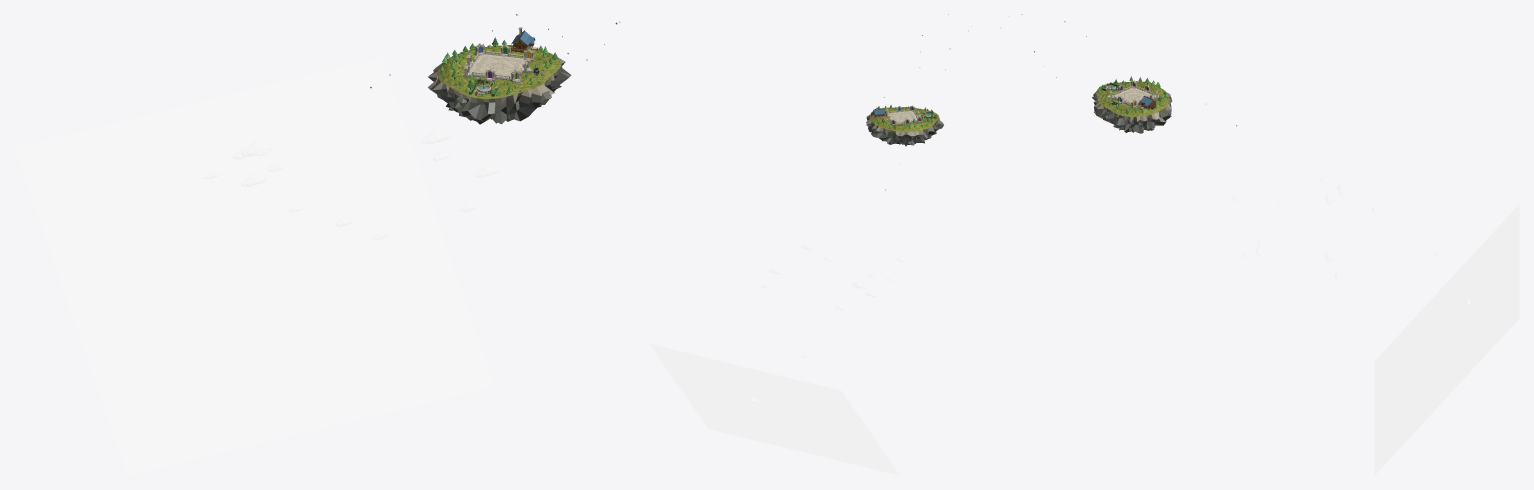
File: portal-island.glb
3 views of the same model, side by side, from view 1: azimuth 30°, elevation 25°; view 2: azimuth 150°, elevation 25°; view 3: azimuth 270°, elevation 25° (orthographic). The views are drawn at different scales.
Parts seen in each view (by area): view 1: Sky_Backdrop, Island_Cliff, Island_Grass, Clouds, Plaza_Paving, Portal_Gates, Trees; view 2: Sky_Backdrop, Island_Cliff, Island_Grass, Clouds; view 3: Sky_Backdrop, Island_Cliff, Island_Grass, Clouds.
Boxes of the visible parts, x1=… form: Sky_Backdrop: x1=14, y1=58, x2=494, y2=475; Island_Cliff: x1=428, y1=58, x2=571, y2=124; Island_Grass: x1=437, y1=45, x2=561, y2=98; Clouds: x1=203, y1=129, x2=498, y2=240; Plaza_Paving: x1=470, y1=54, x2=524, y2=80; Portal_Gates: x1=463, y1=43, x2=534, y2=83; Trees: x1=439, y1=37, x2=557, y2=95; Sky_Backdrop: x1=649, y1=343, x2=900, y2=475; Island_Cliff: x1=866, y1=112, x2=943, y2=146; Island_Grass: x1=870, y1=107, x2=939, y2=131; Clouds: x1=747, y1=244, x2=905, y2=403; Sky_Backdrop: x1=1374, y1=204, x2=1519, y2=475; Island_Cliff: x1=1092, y1=91, x2=1172, y2=133; Island_Grass: x1=1096, y1=81, x2=1169, y2=116; Clouds: x1=1232, y1=176, x2=1470, y2=305.
Bounding box in the file's own units: 144 × 232 × 275.
